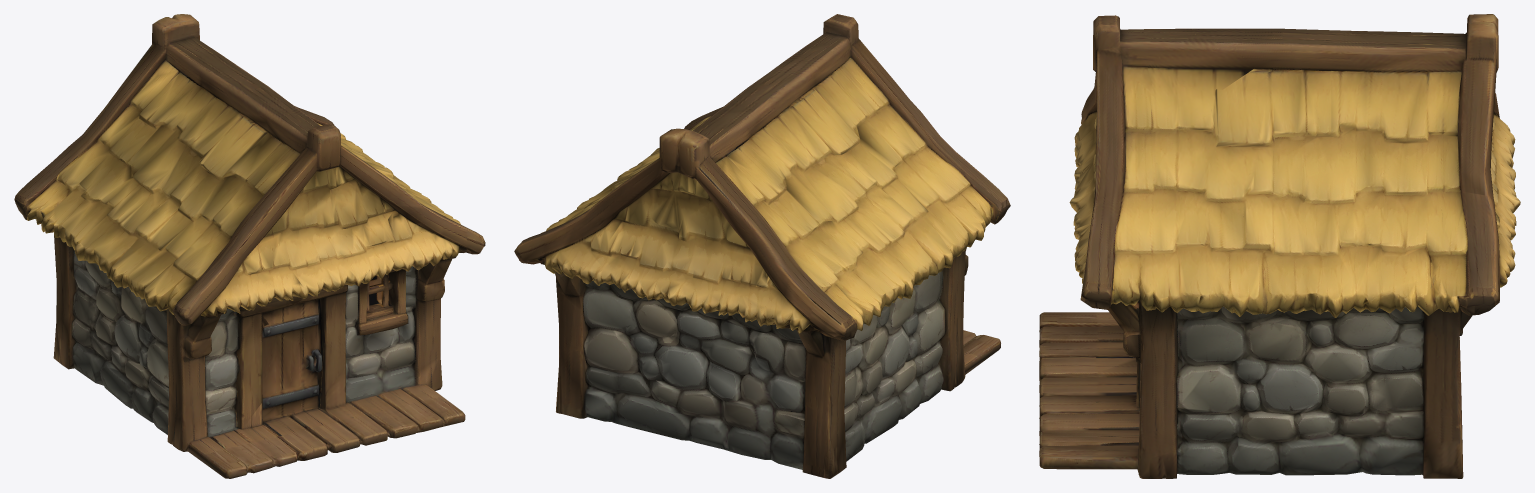
The model's file is house_2.glb.
3 views of the same model, side by side, from view 1: azimuth 30°, elevation 25°; view 2: azimuth 150°, elevation 25°; view 3: azimuth 270°, elevation 25° (orthographic). The views are drawn at different scales.
Parts seen in each view (by area): view 1: Mesh_0.002; view 2: Mesh_0.002; view 3: Mesh_0.002.
Boxes of the visible parts, <box> form: Mesh_0.002: <box>14,14,485,478</box>; Mesh_0.002: <box>514,14,1010,478</box>; Mesh_0.002: <box>1039,14,1520,478</box>.
Size of the model in its own units: 3.29 by 3 by 3.45.
Materials: 1 (1 with a texture image).
